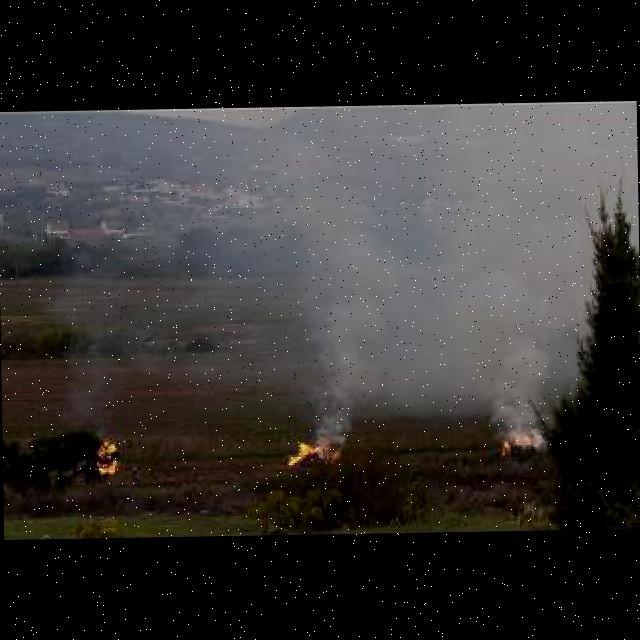Fire: (287, 438, 337, 465), (92, 436, 115, 472), (498, 430, 532, 453)
Smoke: (483, 362, 542, 445), (307, 367, 364, 442)
